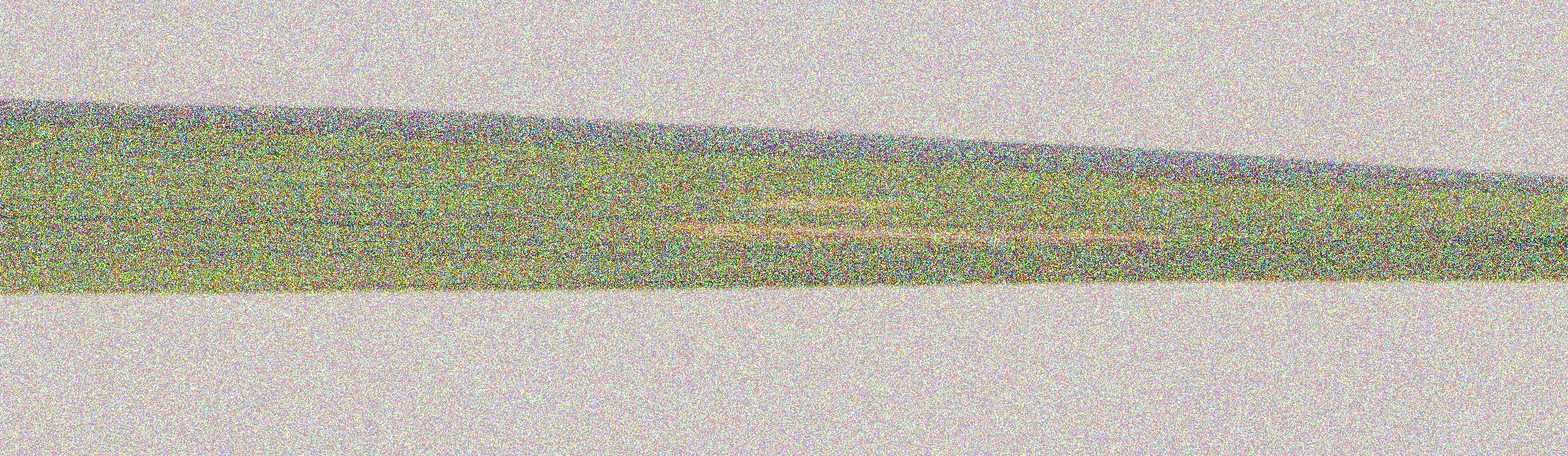Leaf_Blast: (620, 162, 1224, 259)
